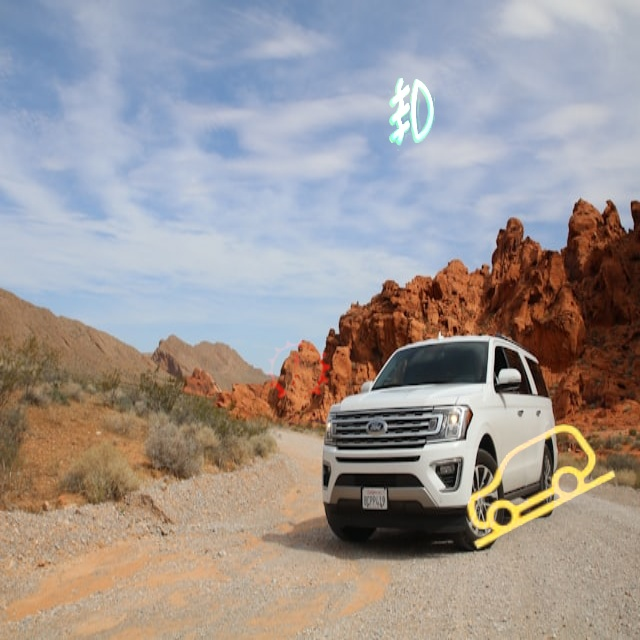symbol: (446, 393, 638, 585), (321, 27, 499, 205), (238, 311, 358, 431)
